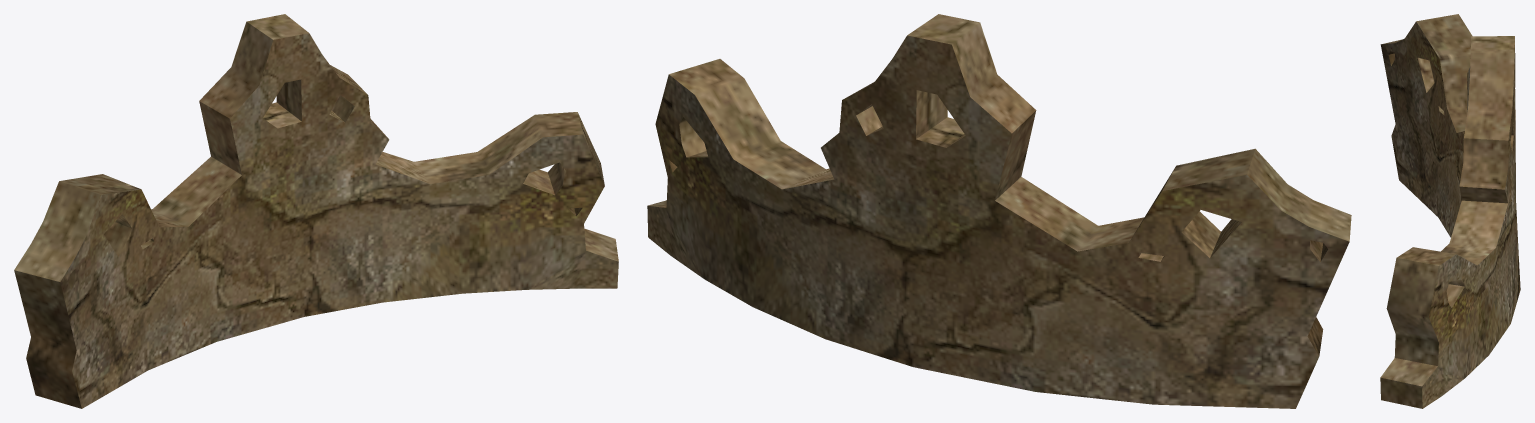
File: double_04.glb
3 renders of one model, left to right at view 1: azimuth 30°, elevation 25°; view 2: azimuth 150°, elevation 25°; view 3: azimuth 270°, elevation 25°, orthographic. The views are drawn at different scales.
Visible parts, largest first — view 1: objdouble_04; view 2: objdouble_04; view 3: objdouble_04.
Part boxes in pixels (x1,y1,x2,y2): objdouble_04: (14,14,618,408); objdouble_04: (647,14,1351,408); objdouble_04: (1380,14,1520,408).
Bounding box in the file's own units: 6.64 × 2.97 × 1.56.
1 material, 1 textured.
